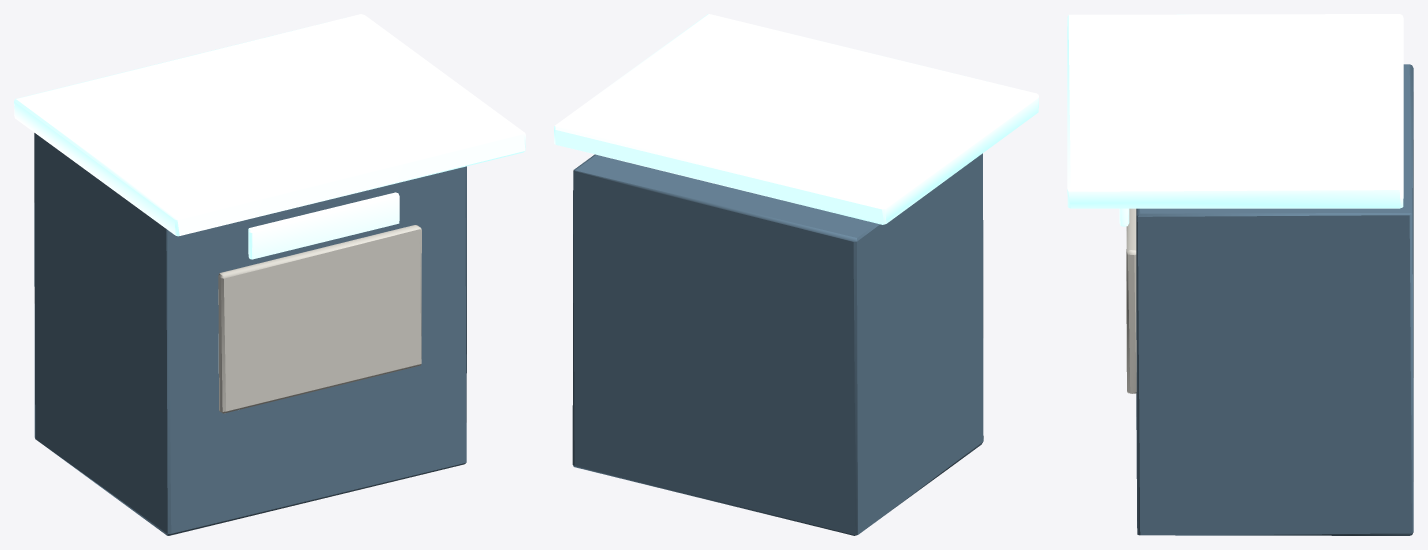
Rendered from SM_Rheinufer_Kiosk_LOD1.fbx.
3 views of the same model, side by side, from view 1: azimuth 30°, elevation 25°; view 2: azimuth 150°, elevation 25°; view 3: azimuth 270°, elevation 25° (orthographic). The views are drawn at different scales.
Visible parts, largest first — view 1: SM_Rheinufer_Kiosk_LOD1; view 2: SM_Rheinufer_Kiosk_LOD1; view 3: SM_Rheinufer_Kiosk_LOD1.
Boxes of the visible parts, x1,y1,x2,y2 form: SM_Rheinufer_Kiosk_LOD1: [14, 14, 525, 535]; SM_Rheinufer_Kiosk_LOD1: [554, 14, 1038, 535]; SM_Rheinufer_Kiosk_LOD1: [1067, 14, 1413, 535].
Bounding box in the file's own units: 2.1 × 2.01 × 1.75.
